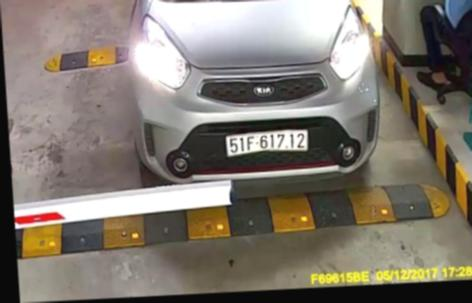License_Plate: (224, 124, 311, 162)
